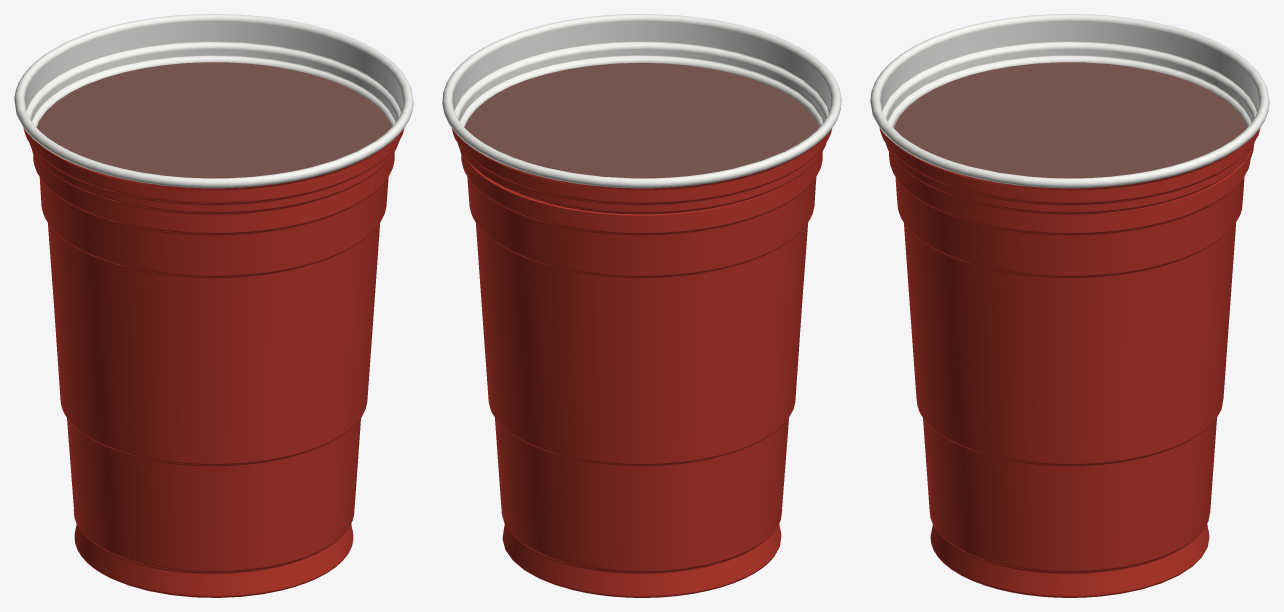
Rendered from 16oz. Red Solo Cup v4_withlid.fbx.
3 renders of one model, left to right at view 1: azimuth 30°, elevation 25°; view 2: azimuth 150°, elevation 25°; view 3: azimuth 270°, elevation 25°, orthographic.
Parts seen in each view (by area): view 1: Body1; view 2: Body1; view 3: Body1.
Boxes of the visible parts, left/top/right/bottom form: Body1: left=14, top=14, right=413, bottom=597; Body1: left=442, top=14, right=841, bottom=597; Body1: left=870, top=14, right=1269, bottom=597.
Size of the model in its own units: 5.88 by 7.2 by 5.88.
